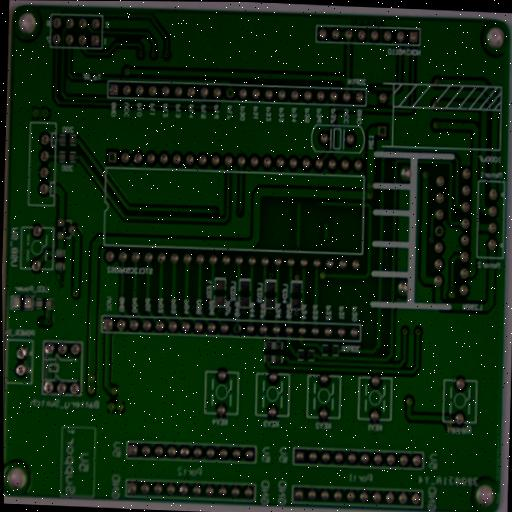missing_hole: (375, 122, 389, 138), (223, 84, 236, 101), (105, 149, 118, 166), (231, 321, 243, 336), (434, 224, 444, 238)
